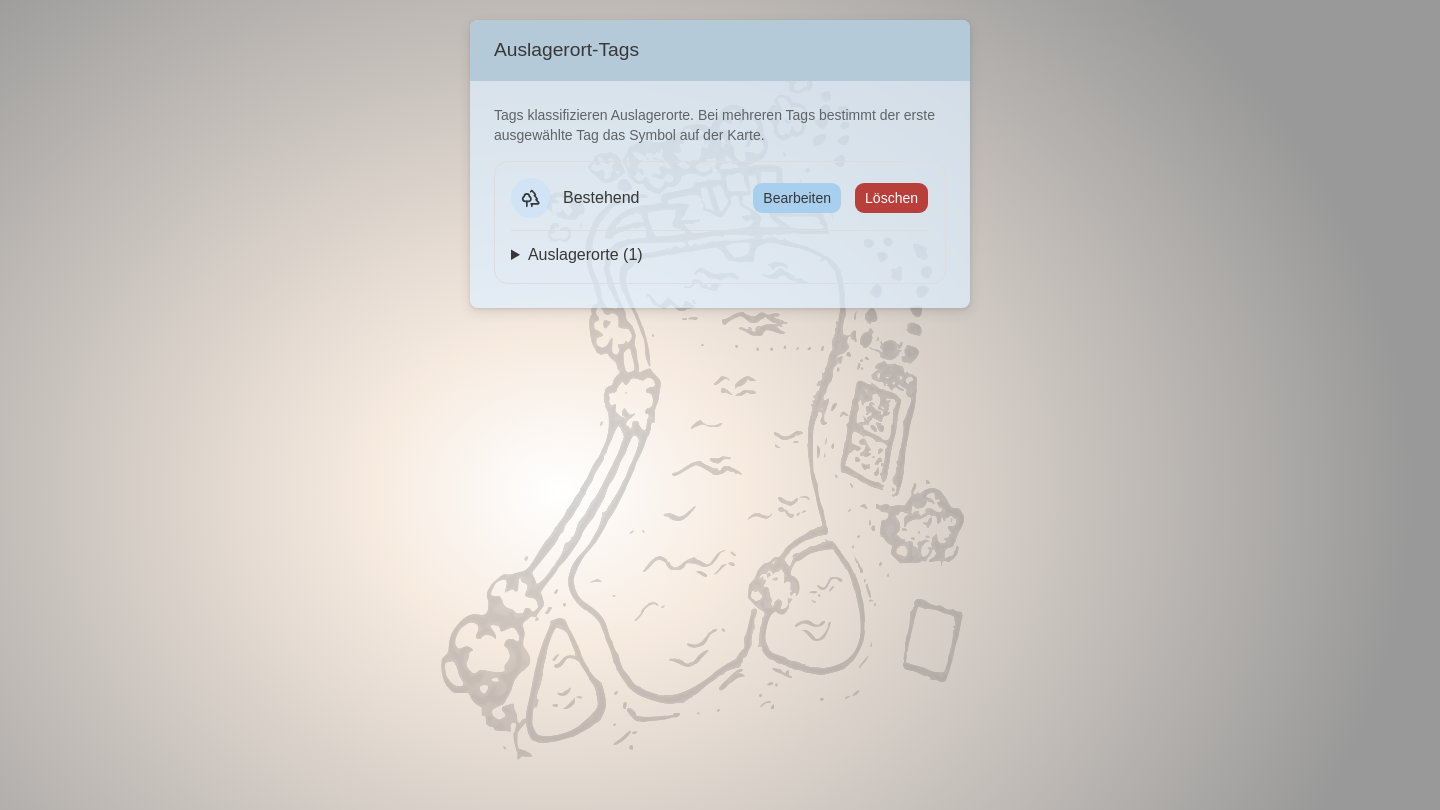
Test: Auslagerorte workflows › shows compact tag rows, associated places, and edits only on request
Check: the field labelled "Name" is not shown
Check: the heading "Bestehend" is shown, box x1=563 y1=186 x2=640 y2=210
Click the heading "Auslagerorte (1)" at coordinates (585, 254), box x1=528 y1=246 x2=643 y2=263
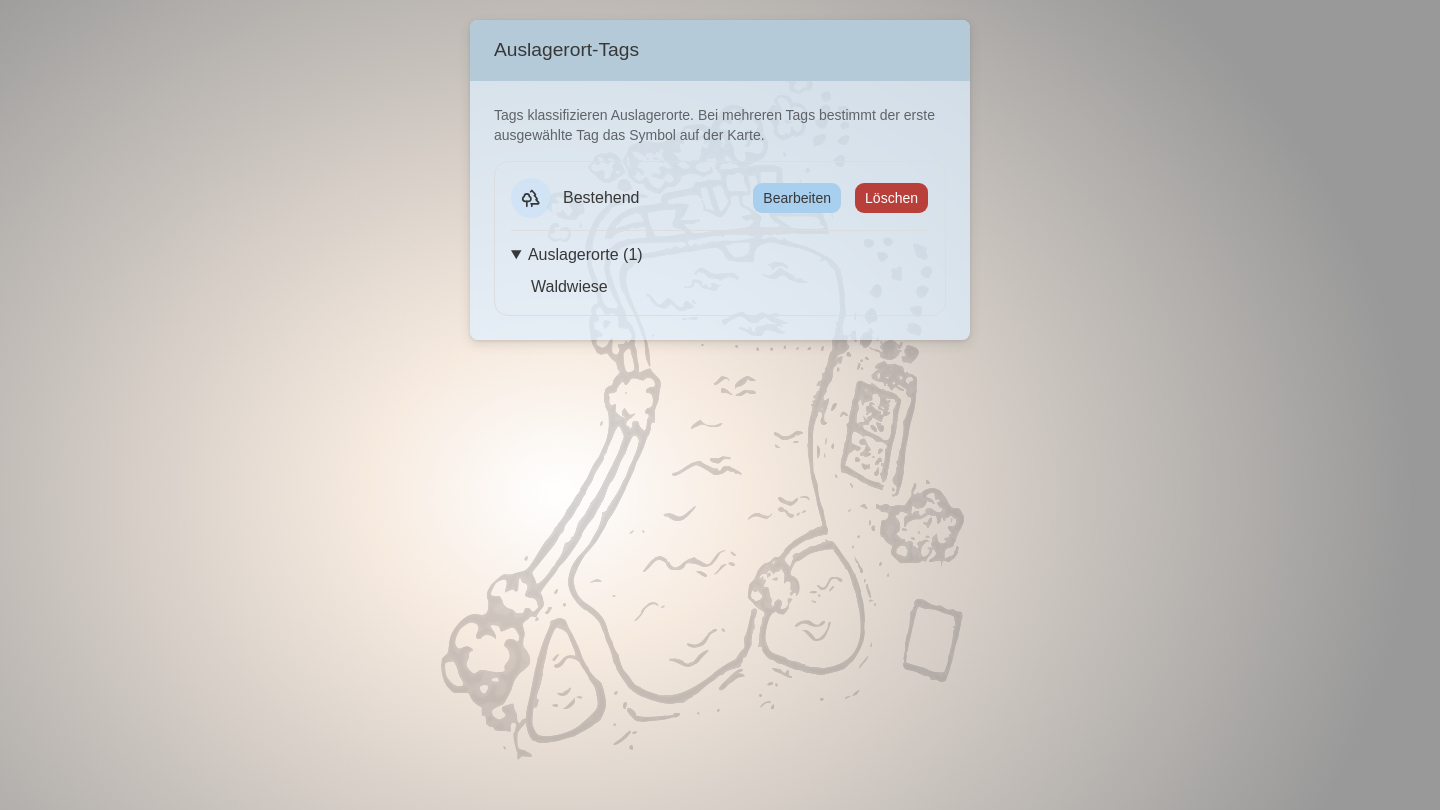
Click the button "Bearbeiten" at coordinates (797, 198), box x1=752 y1=182 x2=842 y2=214
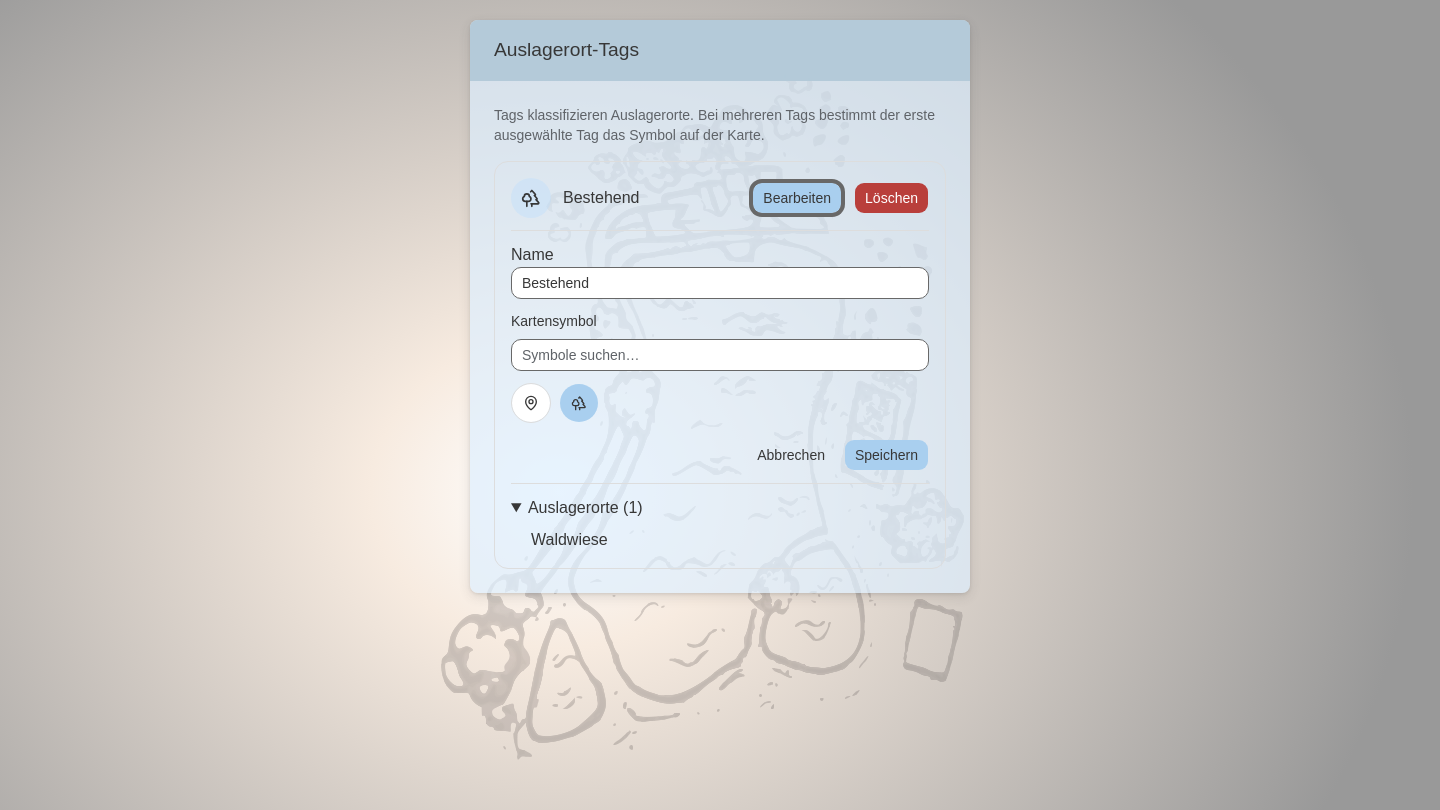
Check: the field labelled "Name" holds "Bestehend", box x1=511 y1=267 x2=929 y2=299
Check: the search field labelled "Symbole suchen" is shown, box x1=511 y1=339 x2=929 y2=371
